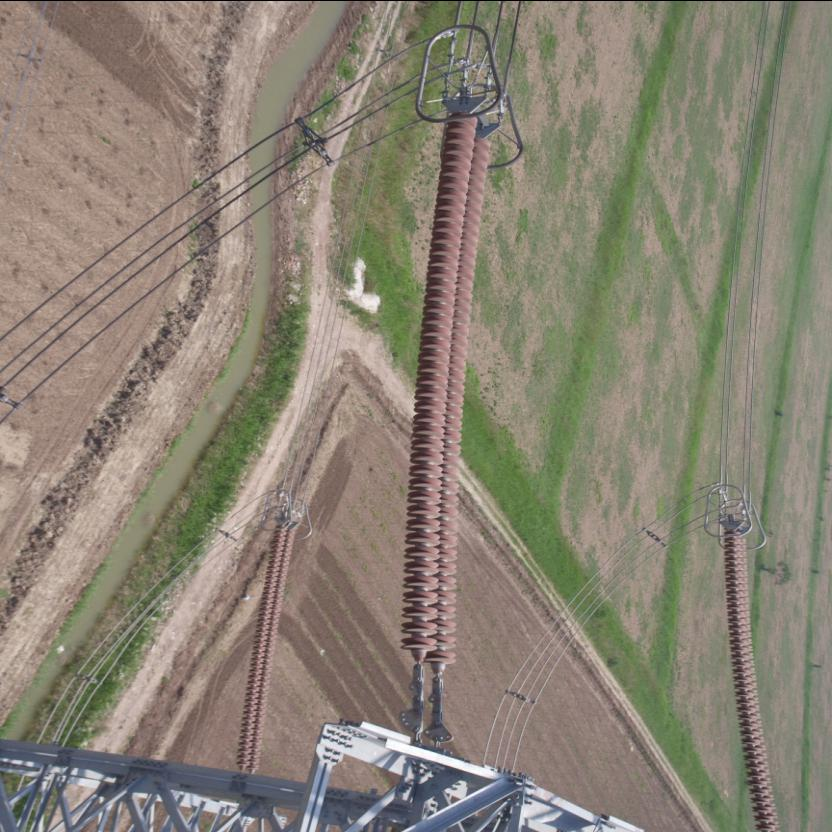insulator: (398, 98, 500, 692), (719, 523, 786, 831), (236, 520, 298, 776)
